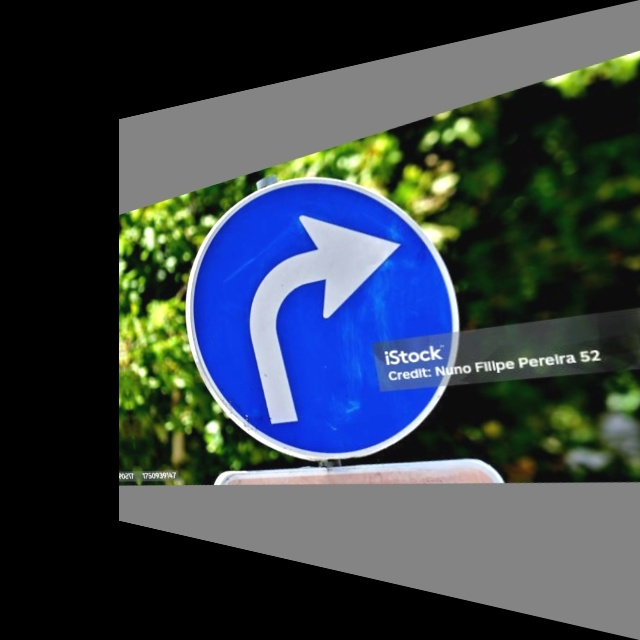Compulsory_Turn_Right_Ahead: (177, 131, 475, 489)
